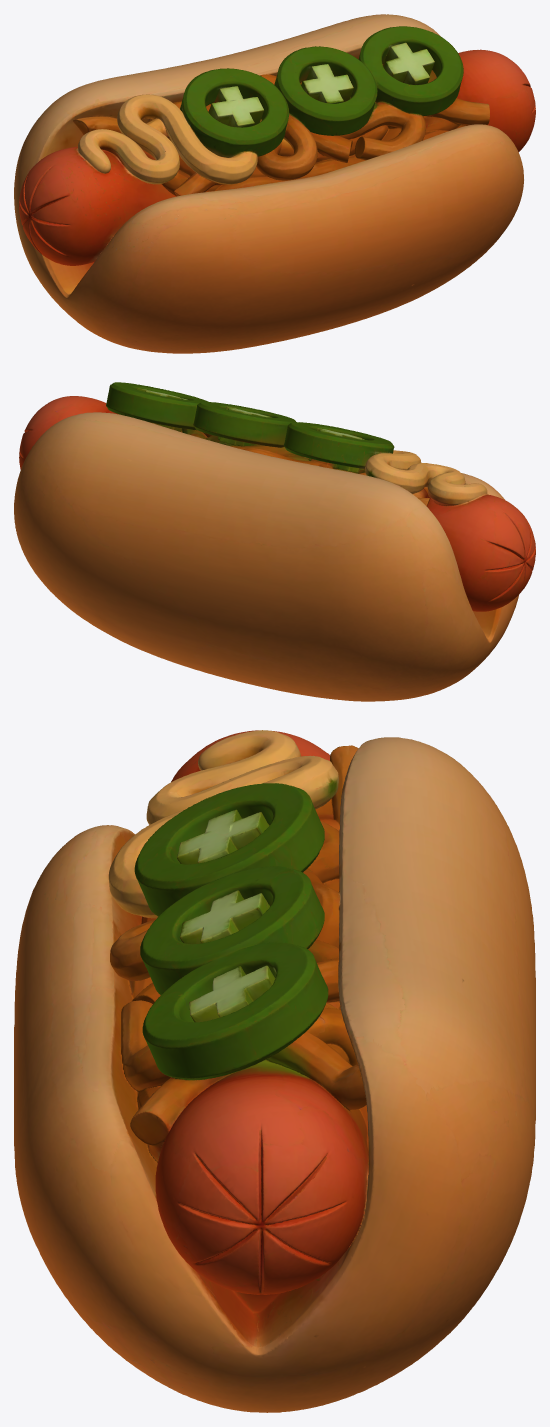
The model's file is hotdog.glb.
3 views of the same model, one above another, from view 1: azimuth 30°, elevation 25°; view 2: azimuth 150°, elevation 25°; view 3: azimuth 270°, elevation 25° (orthographic). The views are drawn at different scales.
Visible parts, largest first — view 1: texture_pbr_v128; view 2: texture_pbr_v128; view 3: texture_pbr_v128.
Part boxes in pixels (box(x1,y1,x2,y2)): texture_pbr_v128: box(14, 14, 535, 353); texture_pbr_v128: box(14, 382, 535, 701); texture_pbr_v128: box(14, 730, 535, 1412).
Size of the model in its own units: 0.9638 by 0.4859 by 0.4887.
1 material, 1 textured.
